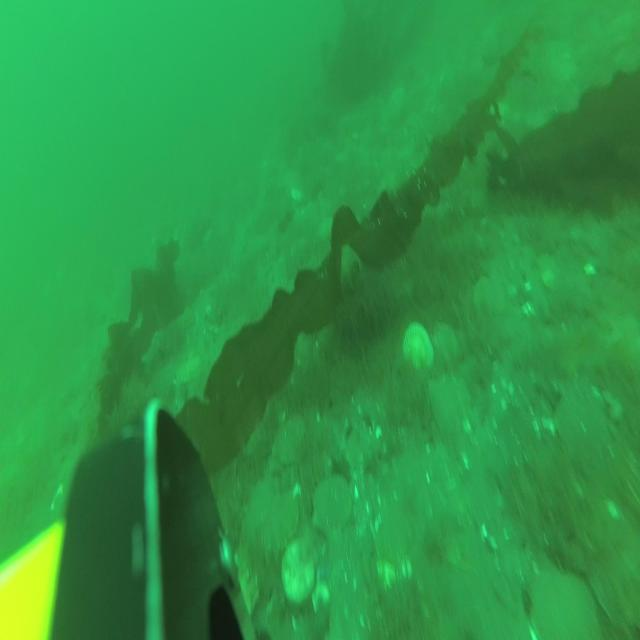scallop: (530, 565, 596, 640), (556, 384, 606, 460), (428, 374, 470, 443), (314, 474, 351, 538), (283, 541, 316, 605), (263, 494, 300, 551), (245, 479, 281, 531), (345, 420, 378, 474), (404, 322, 434, 378), (475, 273, 509, 321), (275, 418, 307, 462), (431, 324, 455, 377)
